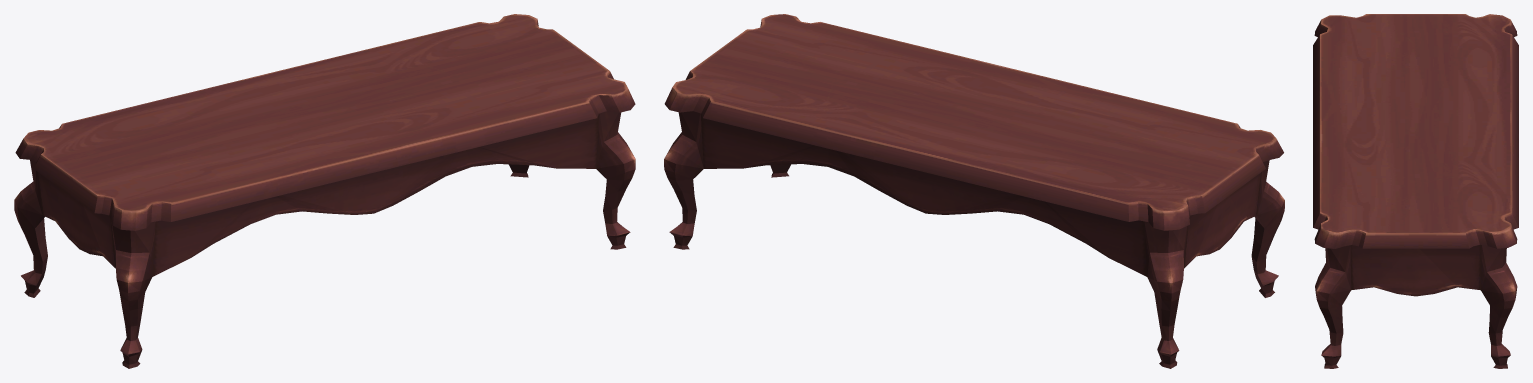
The model's file is table.obj.
The picture shows the model from 3 angles, left to right: view 1: azimuth 30°, elevation 25°; view 2: azimuth 150°, elevation 25°; view 3: azimuth 270°, elevation 25°; orthographic projection. The views are drawn at different scales.
Parts seen in each view (by area): view 1: s4studio_mesh_2; view 2: s4studio_mesh_2; view 3: s4studio_mesh_2.
Part boxes in pixels (x1,y1,x2,y2): s4studio_mesh_2: [14, 14, 635, 368]; s4studio_mesh_2: [664, 14, 1284, 368]; s4studio_mesh_2: [1313, 14, 1518, 368].
Size of the model in its own units: 1.73 by 0.4965 by 0.6698.
1 material, 1 textured.
